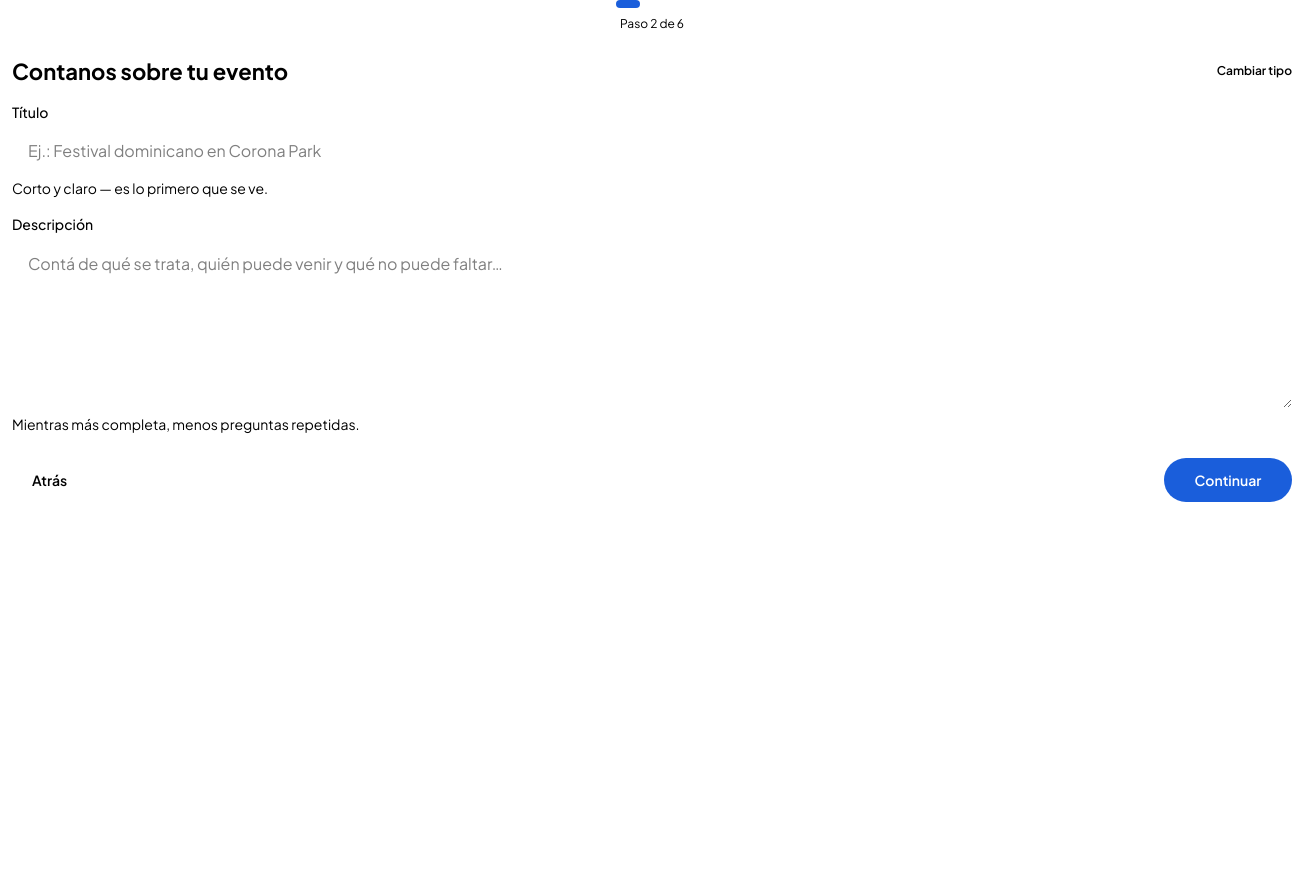
Test: PublishForm — gate de identidad › un evento gratis NO bloquea sin identidad — sólo cobrar entrada lo hace
The width and height of the screenshot is (1304, 883).
Type "Cuarto amplio en casa compartida" into the field labelled "Título".
click(652, 150); type("Cuarto amplio en casa compartida")  # box [12,128,1292,172]
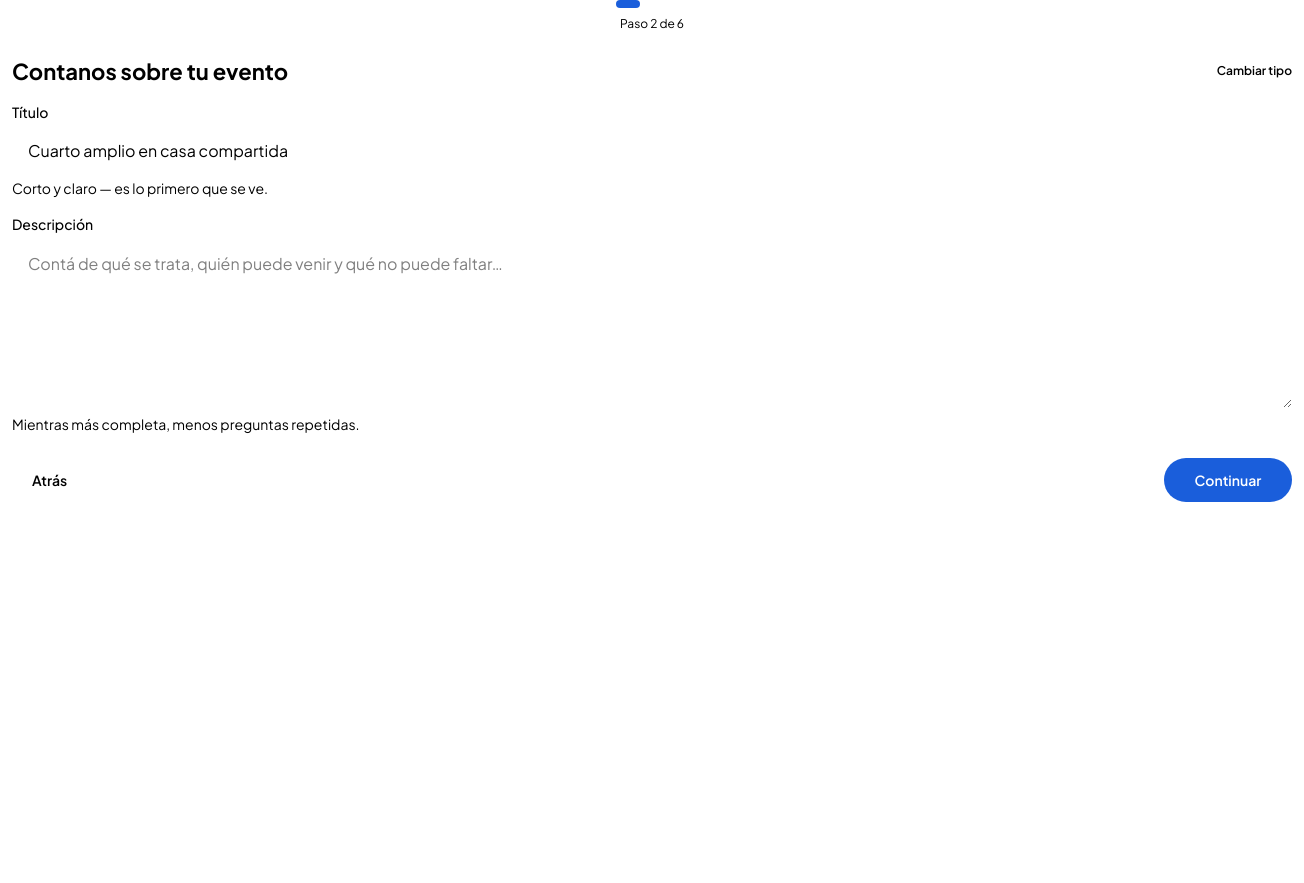
Replace the text in the text box labelled "Descripción" with "Cuarto con placard en casa tranquila, a tres cuadras del tren. Servicios incluidos." at [652, 324], box [12,240,1292,408]
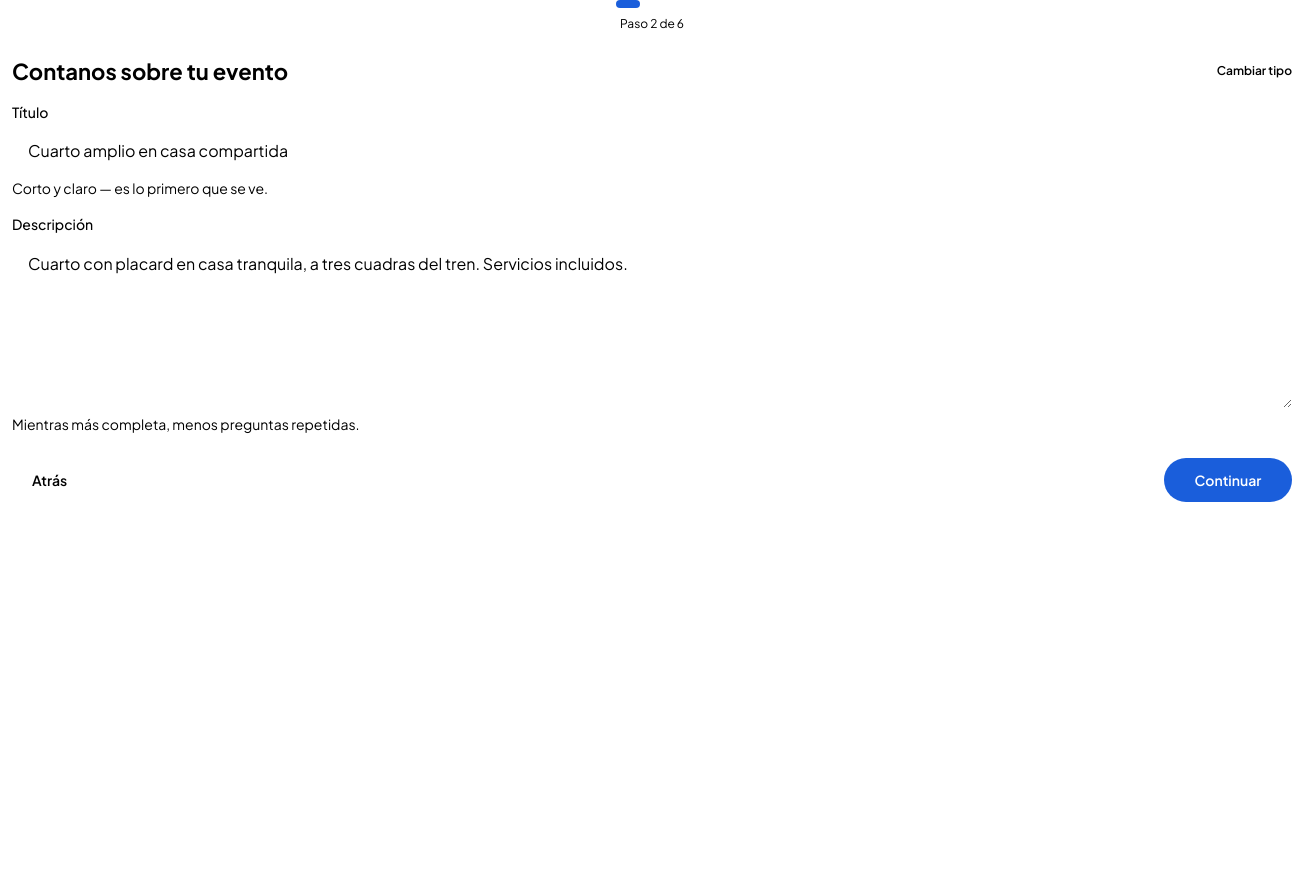
Click the button "Continuar".
click(1228, 480)  # box [1164,458,1292,502]
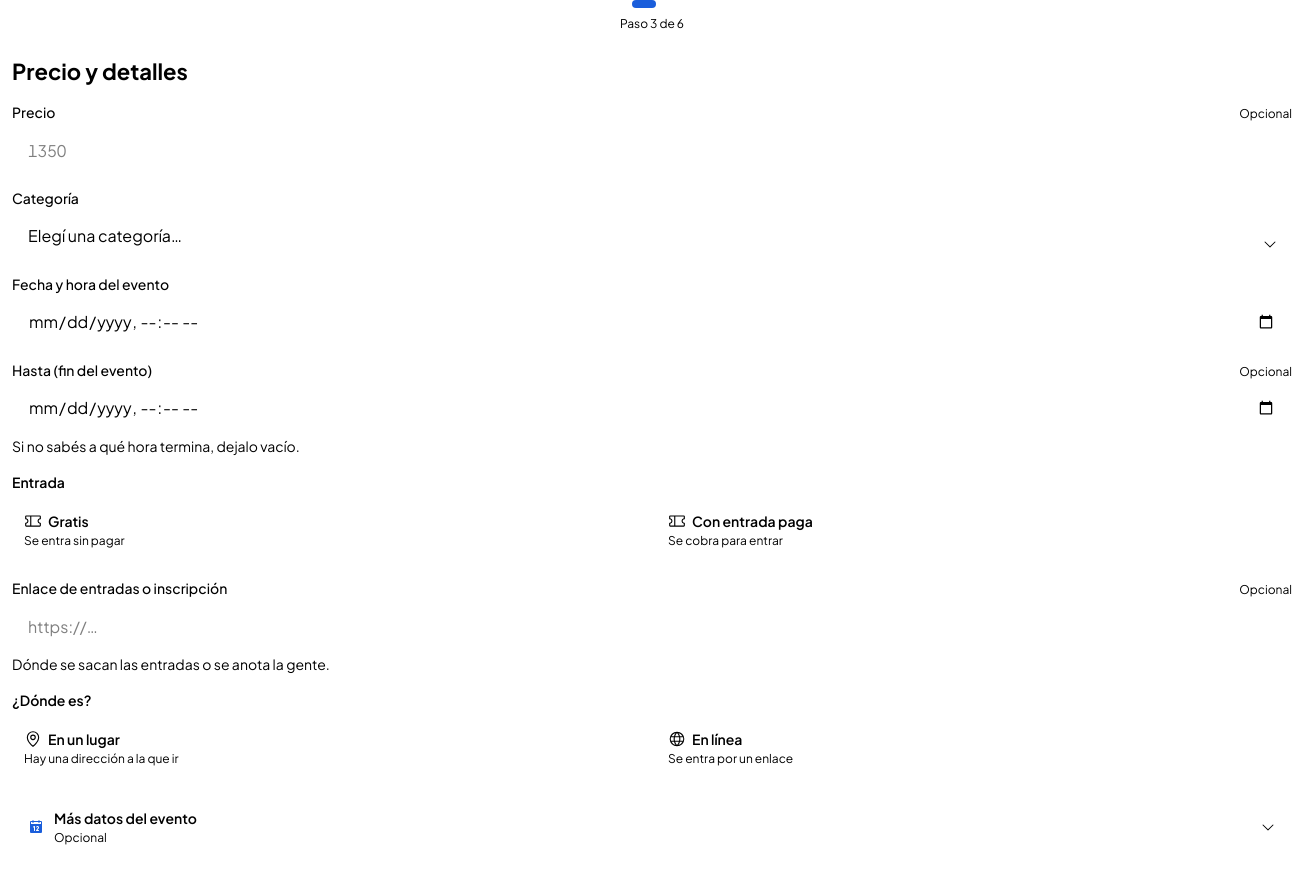
Expected: the text "Verificá tu identidad para publicar" is not shown
Click the text "Con entrada paga".
click(740, 521)  # box [668,512,813,530]
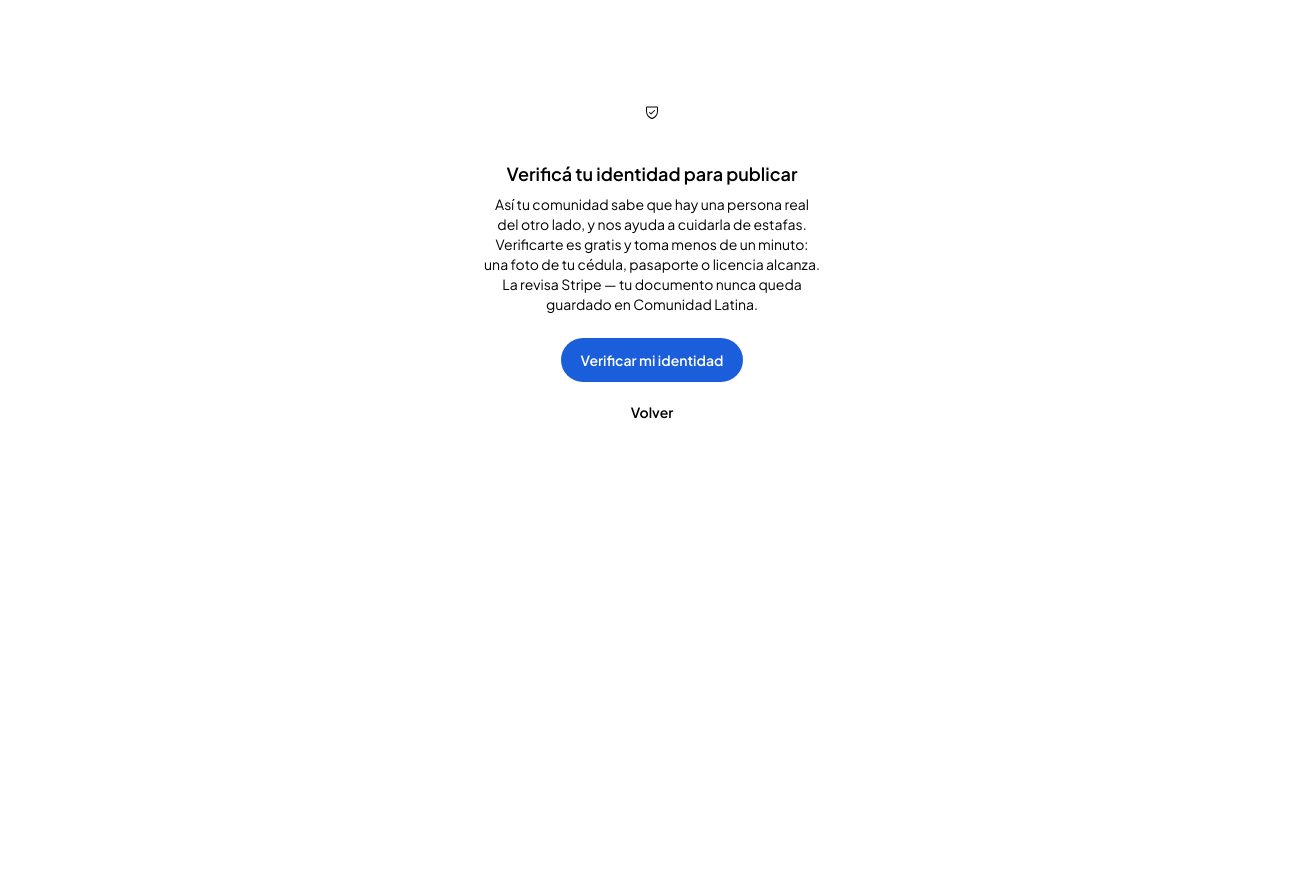
Now the heading "Verificá tu identidad para publicar" is shown, box [484,160,820,188]
